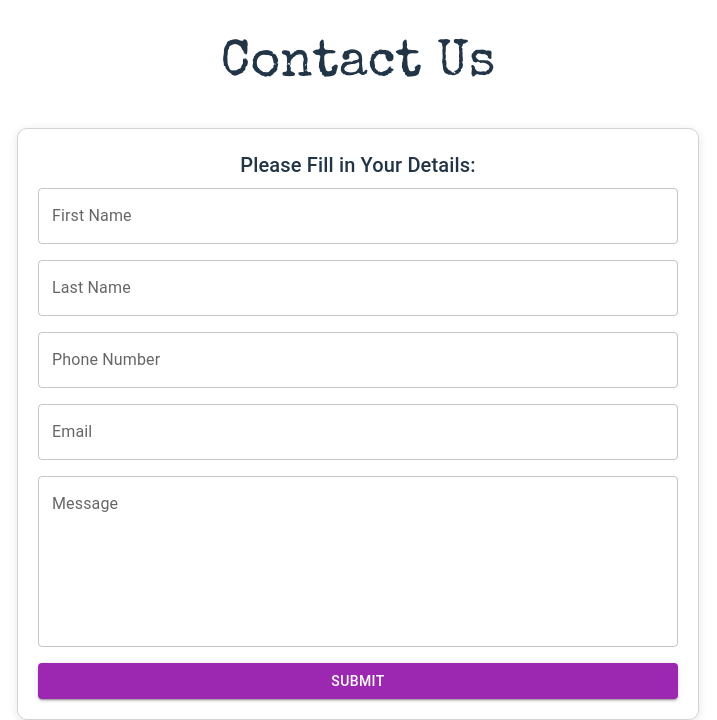
Scenario: Contact form › shows validation errors and does not submit when fields are empty
This screenshot has width=717, height=720.
(page scrolled)
Click the button "Submit" at [358, 681], box x1=38 y1=663 x2=678 y2=699
(page scrolled)
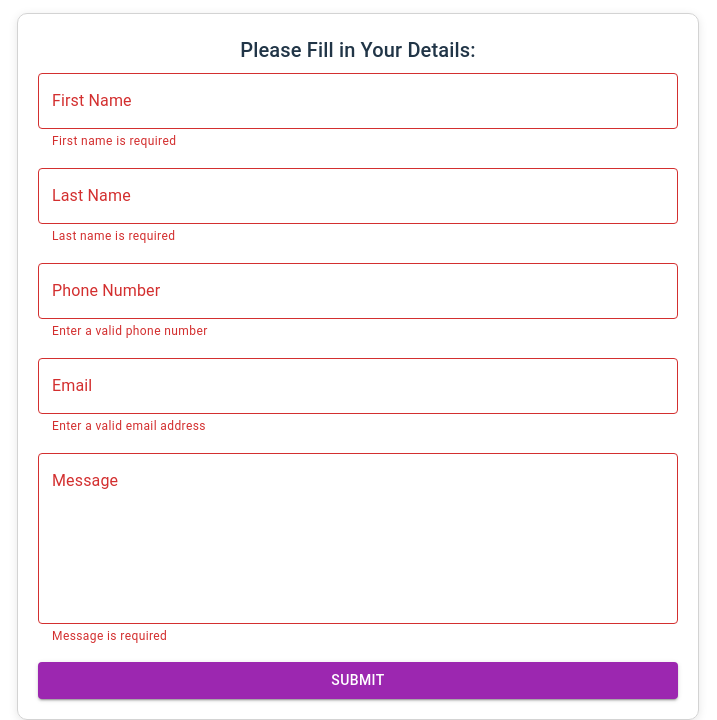
Result: the text "First name is required" is shown at x1=52 y1=134 x2=176 y2=148
Result: the text "Last name is required" is shown at x1=52 y1=229 x2=175 y2=243
Result: the text "Enter a valid phone number" is shown at x1=52 y1=324 x2=208 y2=338
